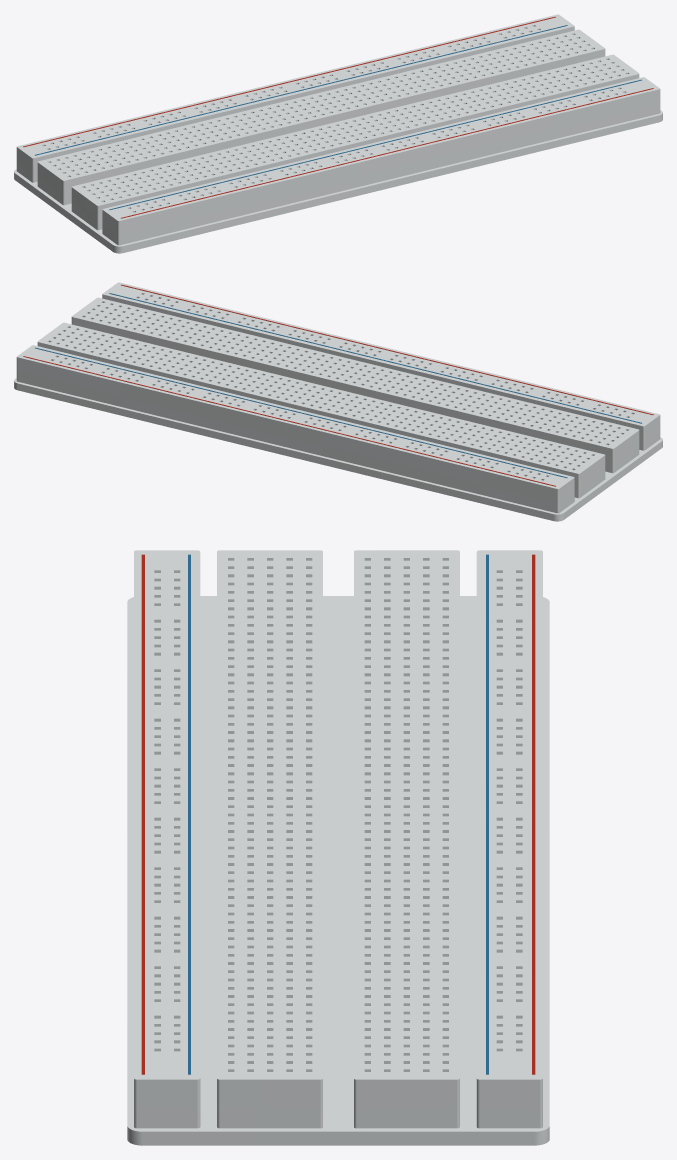
File: 830-point-breadboard.obj
3 views of the same model, one above another, from view 1: azimuth 30°, elevation 25°; view 2: azimuth 150°, elevation 25°; view 3: azimuth 270°, elevation 25° (orthographic). The views are drawn at different scales.
Parts seen in each view (by area): view 1: Power_socket_bank_-1, Terminal_socket_bank_1, Terminal_socket_bank_-1, Power_socket_bank_1, Breadboard_base, Rail_stripe_1_1, Rail_stripe_1_0, Rail_stripe_-1_0, Rail_stripe_-1_1; view 2: Power_socket_bank_1, Terminal_socket_bank_-1, Terminal_socket_bank_1, Power_socket_bank_-1, Breadboard_base, Rail_stripe_-1_1, Rail_stripe_-1_0, Rail_stripe_1_0, Rail_stripe_1_1; view 3: Terminal_socket_bank_1, Terminal_socket_bank_-1, Breadboard_base, Power_socket_bank_1, Power_socket_bank_-1, Rail_stripe_1_1, Rail_stripe_-1_1, Rail_stripe_1_0, Rail_stripe_-1_0.
Part boxes in pixels (<box>): Power_socket_bank_-1: <box>102,77,660,245</box>; Terminal_socket_bank_1: <box>37,29,605,205</box>; Terminal_socket_bank_-1: <box>71,54,639,230</box>; Power_socket_bank_1: <box>16,14,574,182</box>; Breadboard_base: <box>14,110,662,253</box>; Rail_stripe_1_1: <box>23,16,555,146</box>; Rail_stripe_1_0: <box>35,25,567,155</box>; Rail_stripe_-1_0: <box>109,79,641,209</box>; Rail_stripe_-1_1: <box>121,88,653,218</box>; Power_socket_bank_1: <box>16,345,574,513</box>; Terminal_socket_bank_-1: <box>71,297,639,473</box>; Terminal_socket_bank_1: <box>37,322,605,498</box>; Power_socket_bank_-1: <box>102,282,660,450</box>; Breadboard_base: <box>14,378,662,521</box>; Rail_stripe_-1_1: <box>121,284,653,414</box>; Rail_stripe_-1_0: <box>109,293,641,423</box>; Rail_stripe_1_0: <box>35,347,567,477</box>; Rail_stripe_1_1: <box>23,356,555,486</box>; Terminal_socket_bank_1: <box>354,550,459,1128</box>; Terminal_socket_bank_-1: <box>217,550,322,1128</box>; Breadboard_base: <box>127,596,549,1145</box>; Power_socket_bank_1: <box>476,550,542,1128</box>; Power_socket_bank_-1: <box>134,550,200,1128</box>; Rail_stripe_1_1: <box>532,554,535,1074</box>; Rail_stripe_-1_1: <box>141,554,144,1074</box>; Rail_stripe_1_0: <box>486,554,488,1074</box>; Rail_stripe_-1_0: <box>188,554,190,1074</box>.
Bounding box in the file's own units: 0.165 × 0.00906 × 0.055.
Materials: 3 (3 with a texture image).
